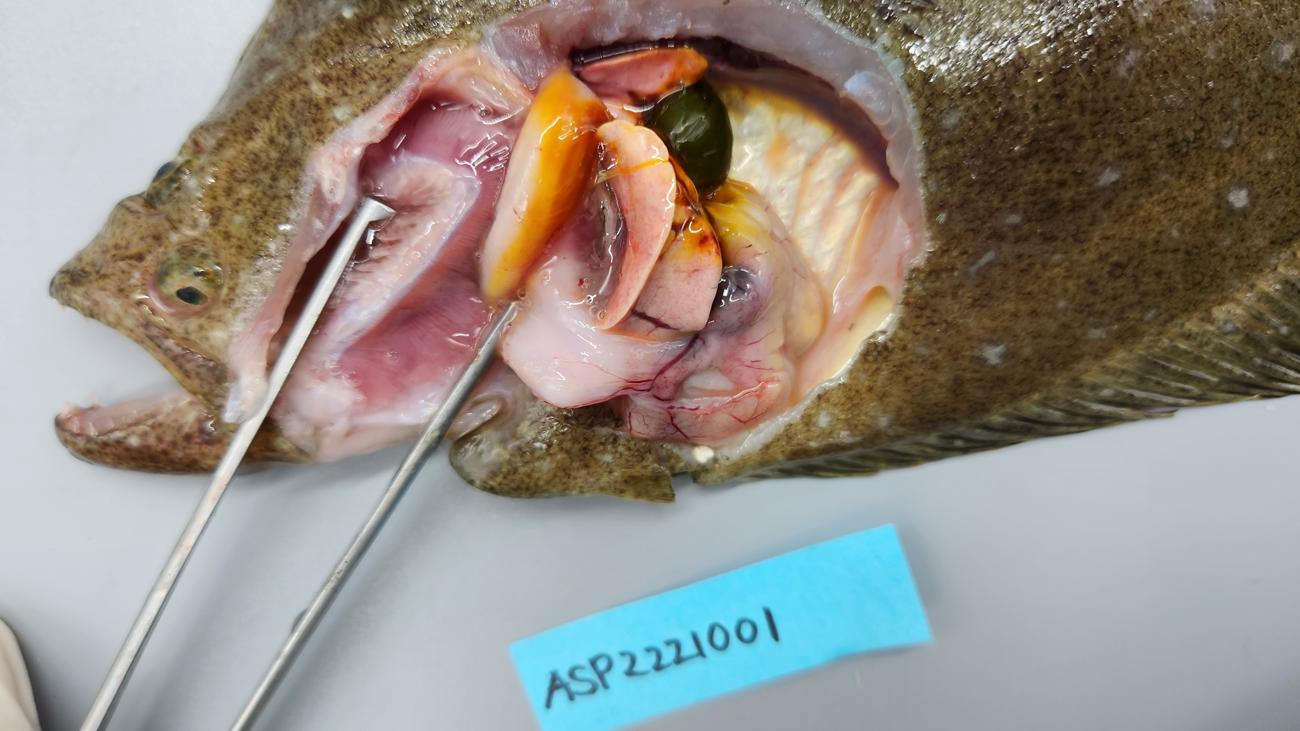SPSPE: (705, 265, 765, 333)
